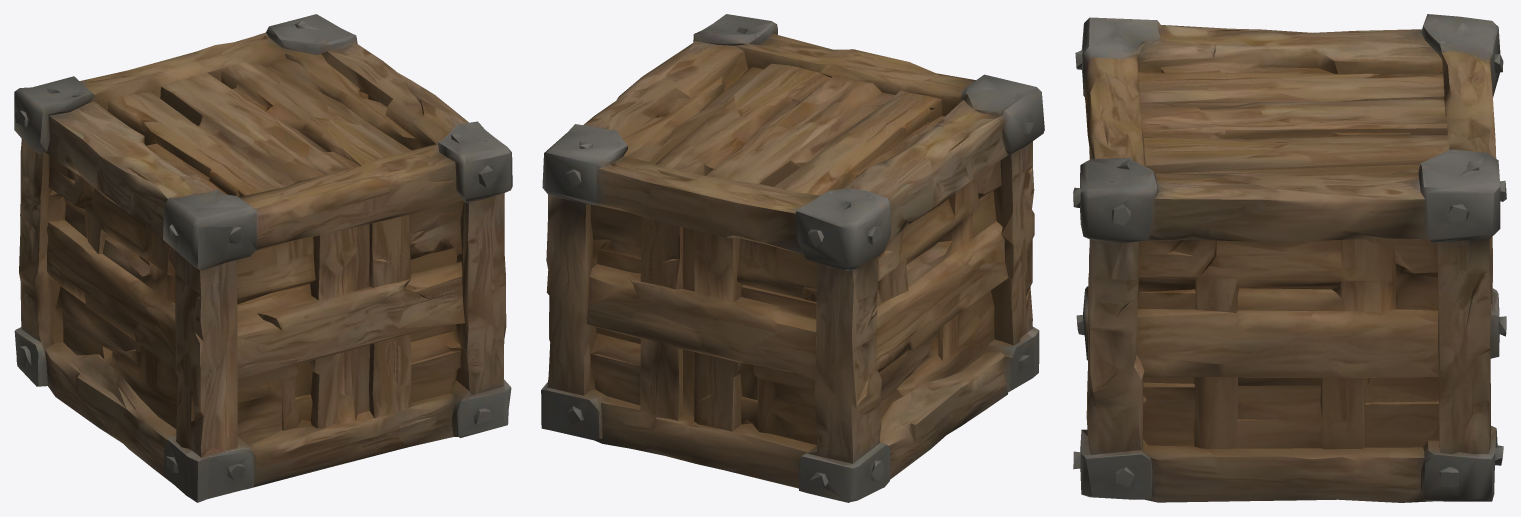
Rendered from crate_idle.glb.
3 renders of one model, left to right at view 1: azimuth 30°, elevation 25°; view 2: azimuth 150°, elevation 25°; view 3: azimuth 270°, elevation 25°, orthographic. The views are drawn at different scales.
Visible parts, largest first — view 1: tripo_node_7b3683b1-257d-4d0a-a2bf-8fb436abf31f; view 2: tripo_node_7b3683b1-257d-4d0a-a2bf-8fb436abf31f; view 3: tripo_node_7b3683b1-257d-4d0a-a2bf-8fb436abf31f.
Part boxes in pixels (<box>): tripo_node_7b3683b1-257d-4d0a-a2bf-8fb436abf31f: <box>14,14,512,502</box>; tripo_node_7b3683b1-257d-4d0a-a2bf-8fb436abf31f: <box>541,14,1044,502</box>; tripo_node_7b3683b1-257d-4d0a-a2bf-8fb436abf31f: <box>1073,14,1506,502</box>.
Bounding box in the file's own units: 0.586 × 0.4986 × 0.5986.
Materials: 1 (1 with a texture image).
